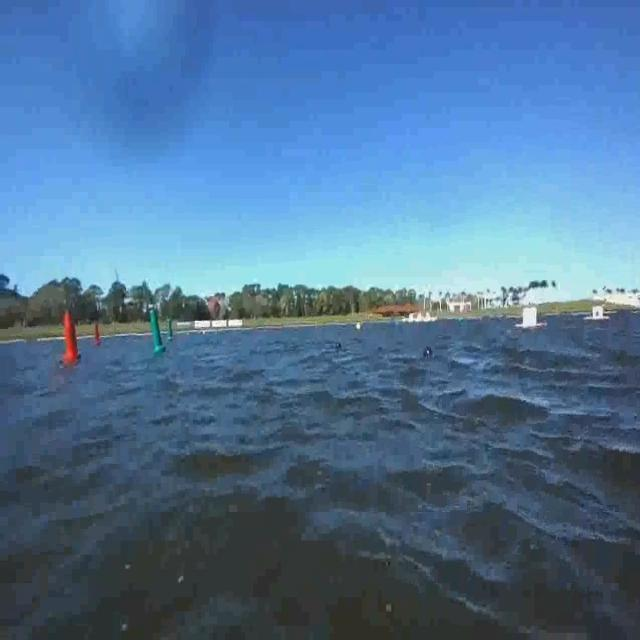black-buoy: (424, 345, 433, 358), (336, 342, 343, 350)
green-column-buoy: (148, 311, 165, 355), (167, 317, 175, 342)
red-column-buoy: (62, 310, 81, 362), (94, 322, 102, 346)
yellow-buoy: (356, 324, 362, 334)
